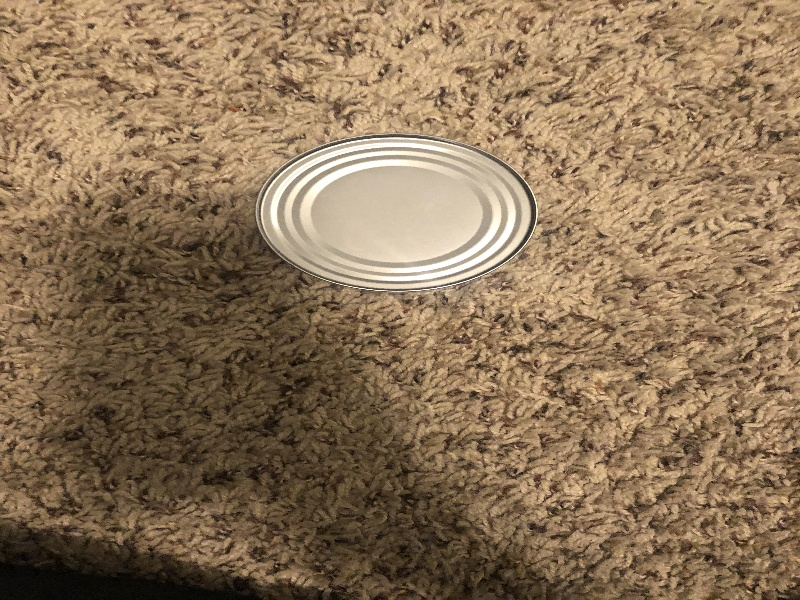metal: (249, 129, 545, 297)
